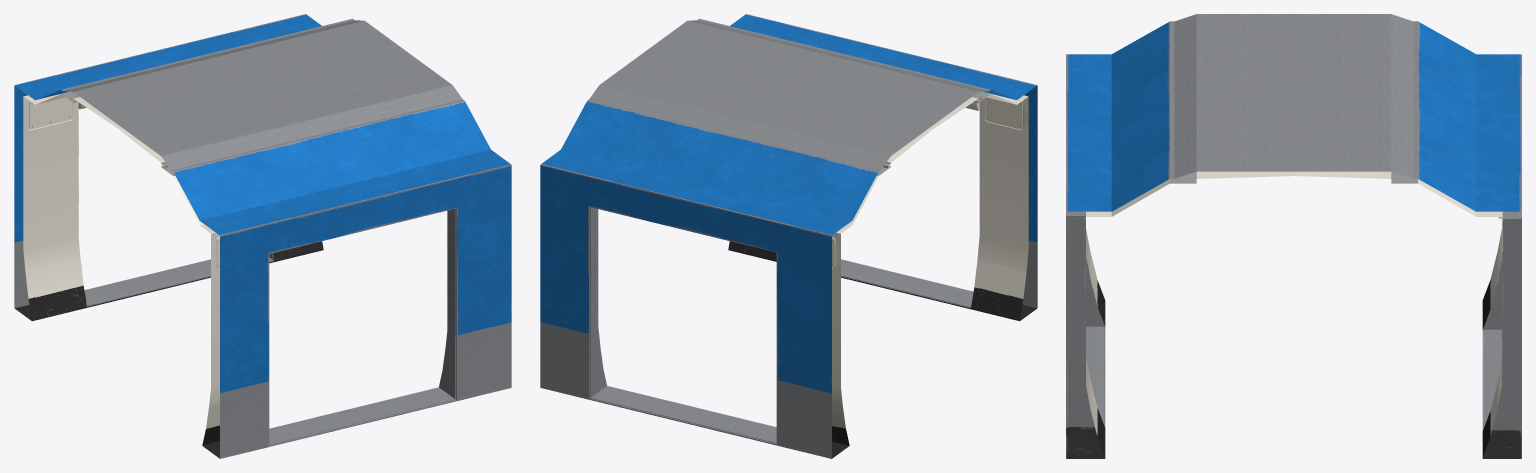
Rendered from Train_exit_door.fbx.
The picture shows the model from 3 angles, left to right: view 1: azimuth 30°, elevation 25°; view 2: azimuth 150°, elevation 25°; view 3: azimuth 270°, elevation 25°; orthographic projection. The views are drawn at different scales.
Visible parts, largest first — view 1: Train_Exit_Door; view 2: Train_Exit_Door; view 3: Train_Exit_Door.
Boxes of the visible parts, x1=… form: Train_Exit_Door: x1=14, y1=14, x2=511, y2=458; Train_Exit_Door: x1=540, y1=14, x2=1037, y2=458; Train_Exit_Door: x1=1066, y1=14, x2=1521, y2=458.
Bounding box in the file's own units: 2.85 × 2.42 × 3.49.
